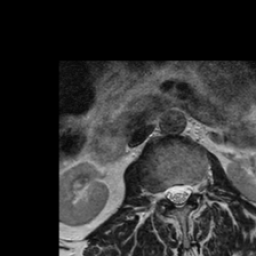CCS_normal: (174, 176, 182, 216)
LFS_normal: (191, 173, 199, 202)
LLS_normal: (182, 176, 191, 208)
RFS_normal: (157, 181, 166, 208)
RLS_normal: (166, 178, 174, 208)
